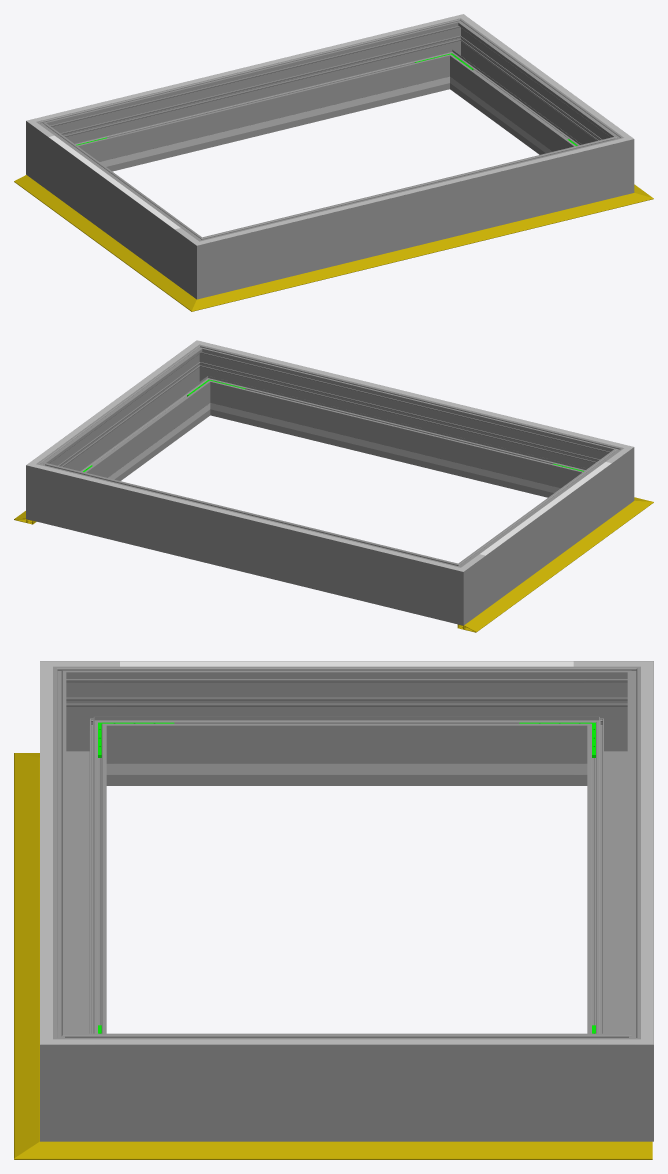
The picture shows the model from 3 angles, top to bottom: view 1: azimuth 30°, elevation 25°; view 2: azimuth 150°, elevation 25°; view 3: azimuth 270°, elevation 25°; orthographic projection. The views are drawn at different scales.
Visible parts, largest first — view 1: 3DGeom-276, 3DGeom-298, 3DGeom-297, 3DGeom-268, 3DGeom-28, 3DGeom-270, 3DGeom-38, 3DGeom-290, 3DGeom-244, 3DGeom-284, 3DGeom-278, 3DGeom-316 (+6 smaller); view 2: 3DGeom-298, 3DGeom-276, 3DGeom-297, 3DGeom-268, 3DGeom-278, 3DGeom-38, 3DGeom-284, 3DGeom-239, 3DGeom-290, 3DGeom-270, 3DGeom-304, 3DGeom-316 (+3 smaller); view 3: 3DGeom-268, 3DGeom-297, 3DGeom-276, 3DGeom-298, 3DGeom-30, 3DGeom-28, 3DGeom-284, 3DGeom-290, 3DGeom-278, 3DGeom-270, 3DGeom-304, 3DGeom-316 (+11 smaller).
Part boxes in pixels (<box>): 3DGeom-276: <box>68,26,443,171</box>; 3DGeom-298: <box>228,143,595,289</box>; 3DGeom-297: <box>453,32,608,154</box>; 3DGeom-268: <box>48,134,186,282</box>; 3DGeom-28: <box>223,199,615,302</box>; 3DGeom-270: <box>174,226,235,299</box>; 3DGeom-38: <box>14,175,181,294</box>; 3DGeom-290: <box>588,124,634,201</box>; 3DGeom-244: <box>114,85,412,164</box>; 3DGeom-284: <box>428,14,484,91</box>; 3DGeom-278: <box>26,114,82,190</box>; 3DGeom-316: <box>232,146,595,236</box>; 3DGeom-298: <box>217,352,591,497</box>; 3DGeom-276: <box>64,469,431,616</box>; 3DGeom-297: <box>50,358,206,480</box>; 3DGeom-268: <box>473,460,611,608</box>; 3DGeom-278: <box>425,552,485,625</box>; 3DGeom-38: <box>457,512,631,632</box>; 3DGeom-284: <box>26,450,71,528</box>; 3DGeom-239: <box>247,412,546,491</box>; 3DGeom-290: <box>176,342,231,417</box>; 3DGeom-270: <box>577,440,634,516</box>; 3DGeom-304: <box>65,472,427,562</box>; 3DGeom-316: <box>232,350,594,439</box>; 3DGeom-268: <box>120,661,573,785</box>; 3DGeom-297: <box>120,1033,573,1141</box>; 3DGeom-276: <box>587,695,653,1033</box>; 3DGeom-298: <box>53,695,106,1033</box>; 3DGeom-30: <box>94,1141,652,1159</box>; 3DGeom-28: <box>14,780,39,1124</box>; 3DGeom-284: <box>574,1011,653,1141</box>; 3DGeom-290: <box>40,1011,119,1141</box>; 3DGeom-278: <box>574,661,653,785</box>; 3DGeom-270: <box>40,661,119,785</box>; 3DGeom-304: <box>641,695,653,1010</box>; 3DGeom-316: <box>40,695,52,1010</box>.
Bounding box in the file's own units: 1.83 × 0.2195 × 1.22.
